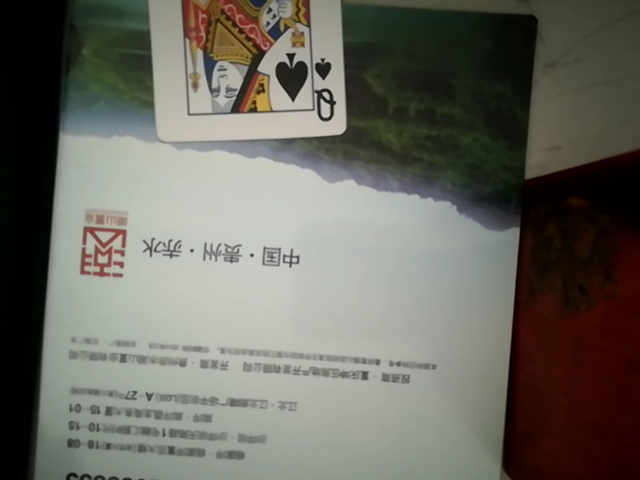ht q: (126, 0, 366, 151)
